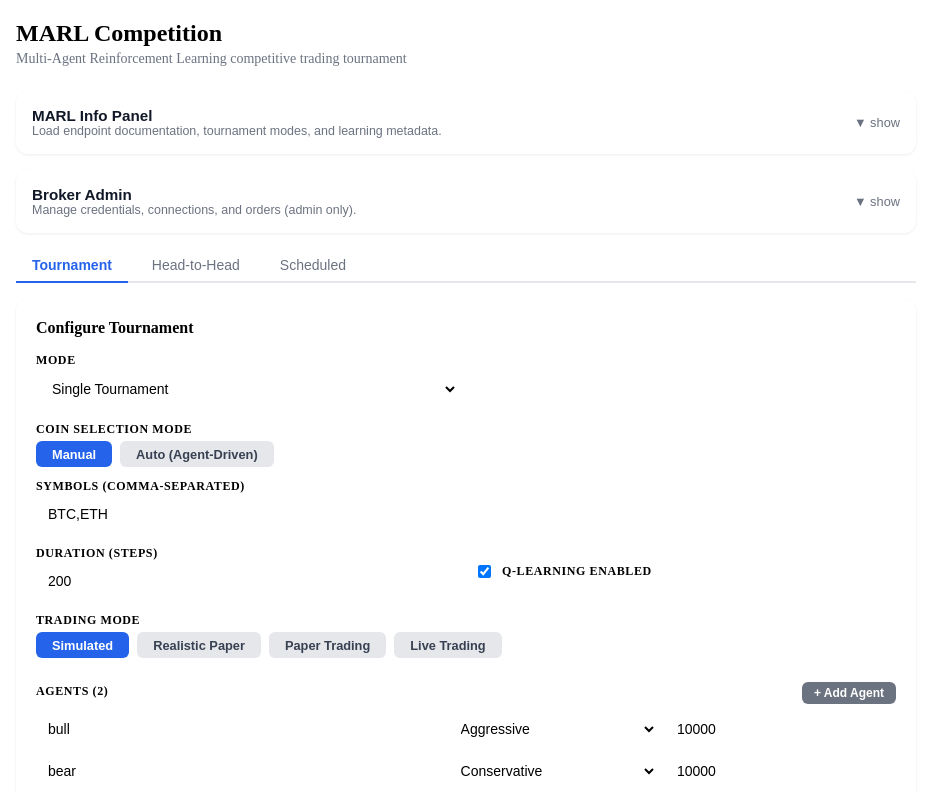
it: MarlCompetitionViewer — agent management › removes an agent when ✕ is clicked
Click the button "+ Add Agent": (849, 693) [802,682,896,704]
(page scrolled)
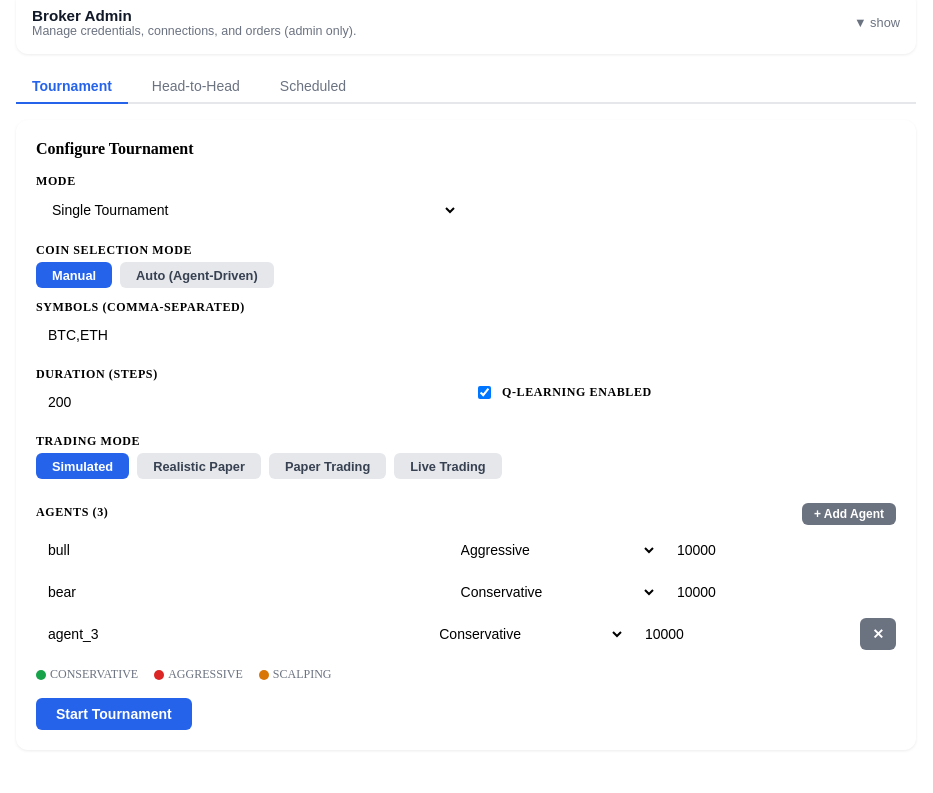
Click the button "✕": (878, 634) [860,618,896,650]
(page scrolled)
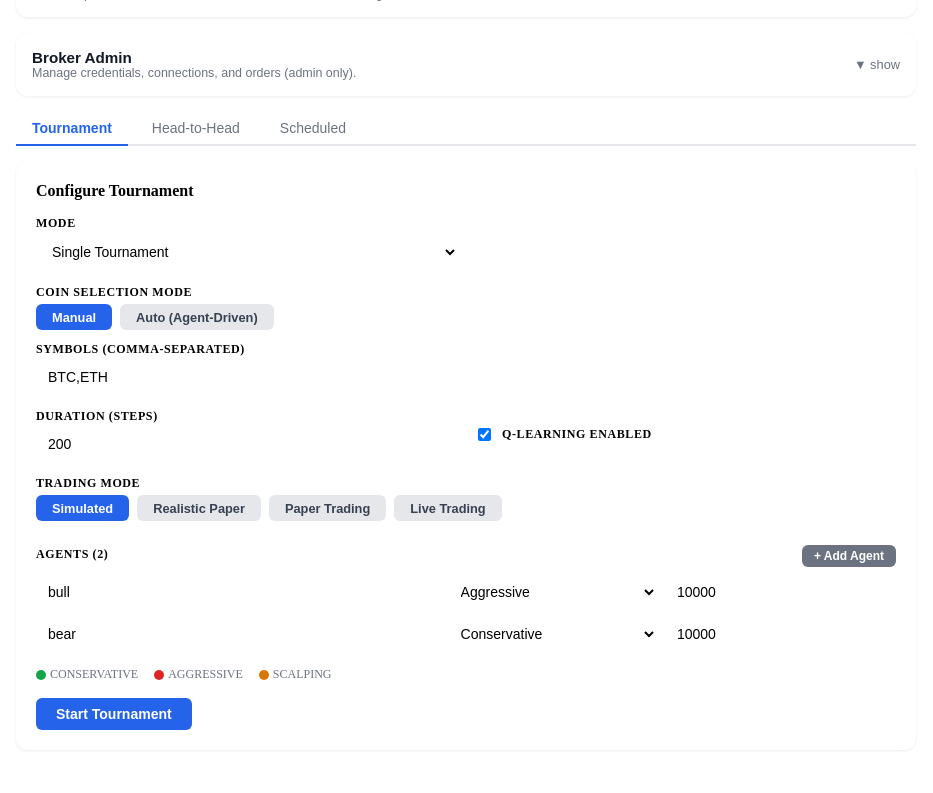
Check: the number of fields with placeholder "Agent ID" is 2, box [36,576,437,608]; [36,618,437,650]
